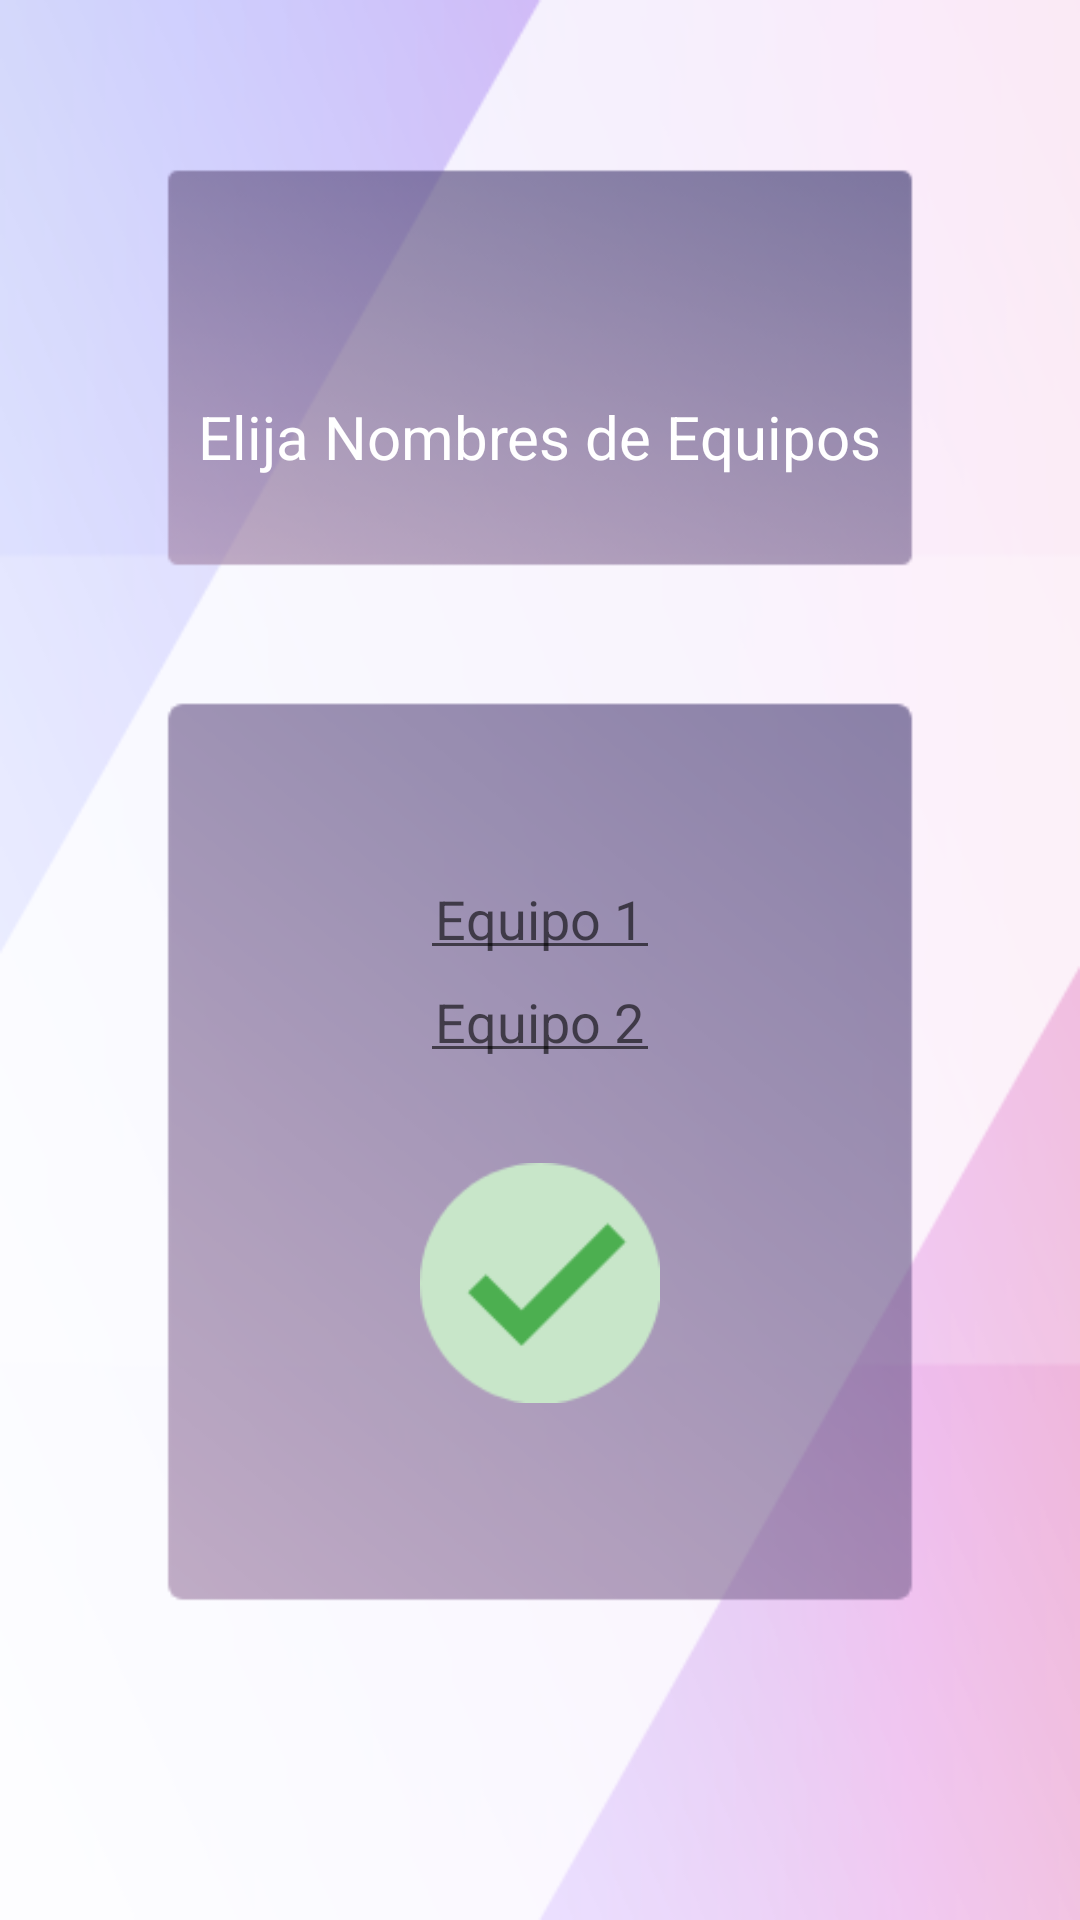

Named icons in this screenshot (1080 × 1920) and their bounding boxes, (x1, y1, x2, y2):
tick: (420, 1163, 660, 1403)
